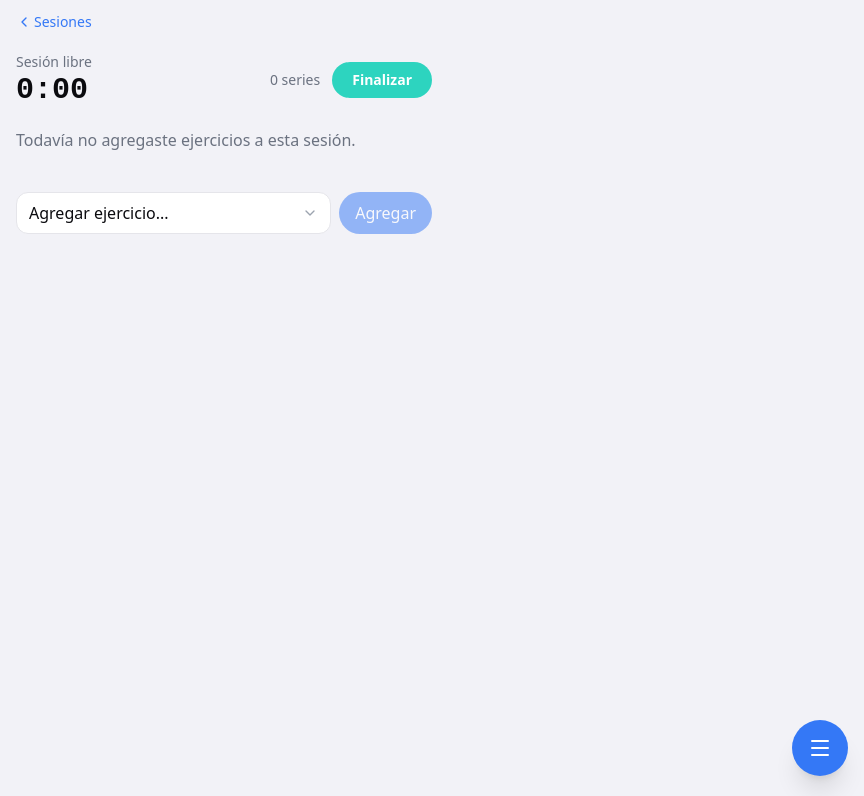
Test case: SessionDetailPage › convierte a kg el peso ingresado en libras al guardar
Expected: the text "Todavía no agregaste ejercicios a esta sesión." is shown, [16,129,356,151]
Click the button "Agregar ejercicio..." at (99, 213), box [16,192,331,234]
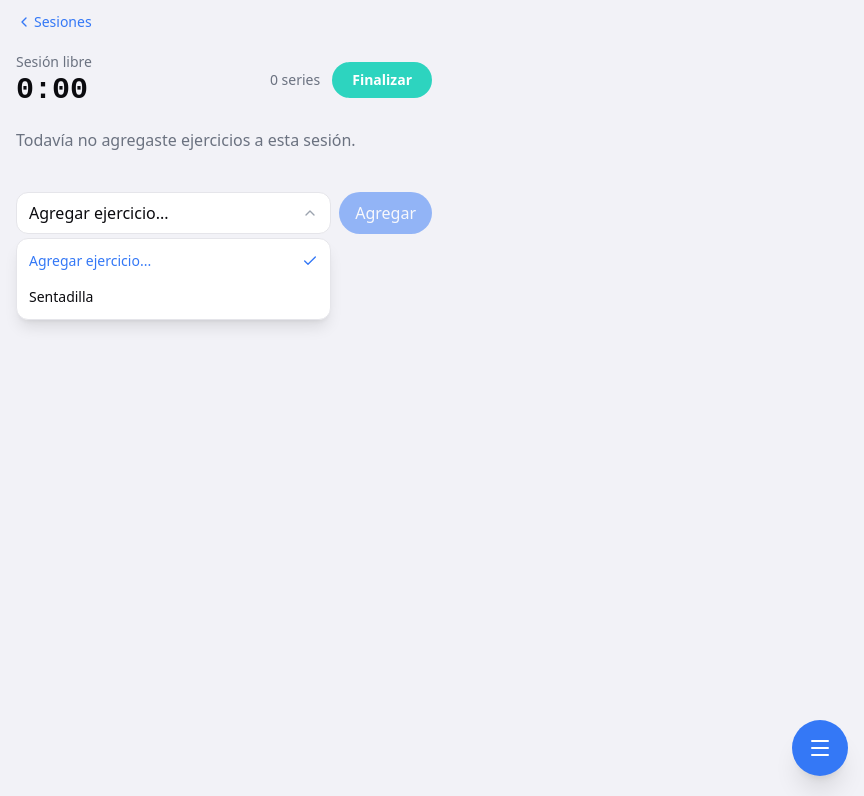
Click the button "Sentadilla" at (61, 296), box [17,279,330,315]
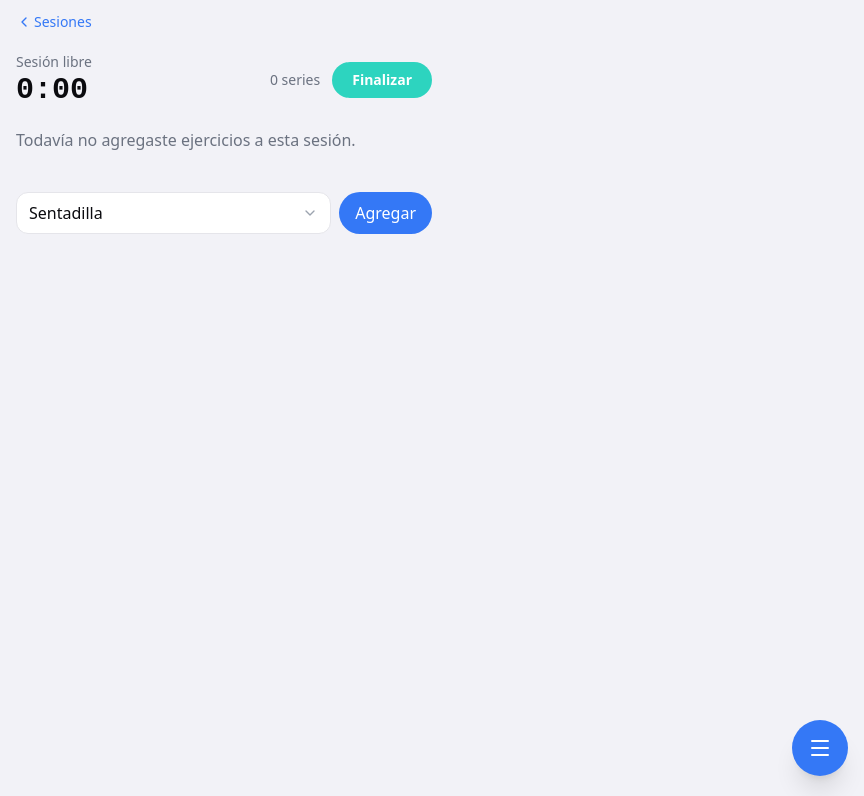
Click the button "Agregar" at (386, 213), box [339,192,432,234]
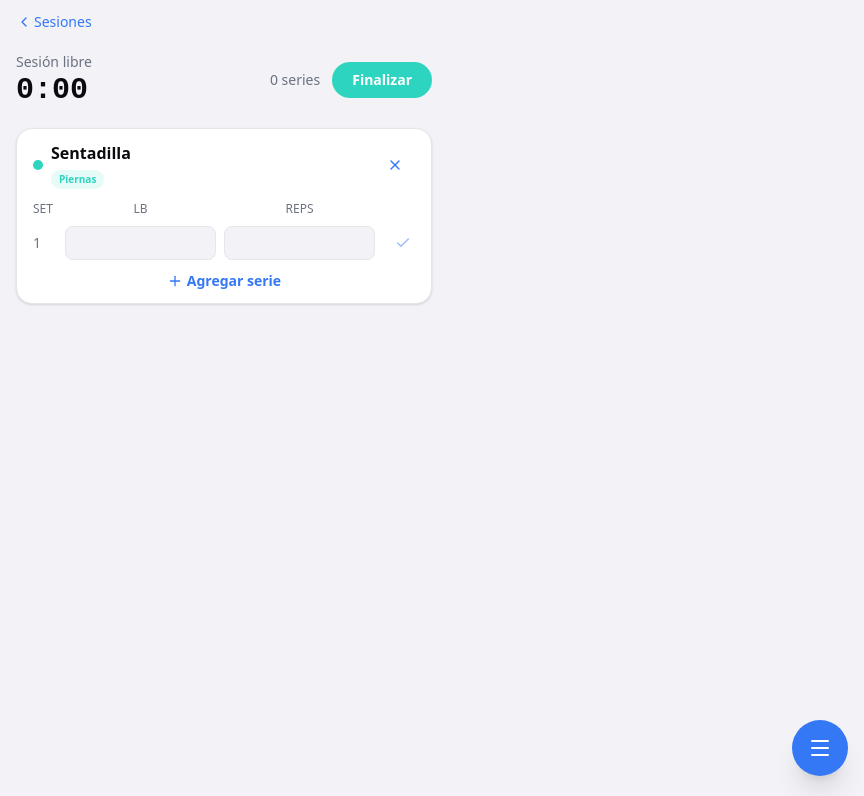
Expected: the text "Sentadilla" is shown, [51,142,131,164]
Type "220" into the number field named "Peso serie 1 de Sentadilla" at (140, 243), box [65,226,216,260]
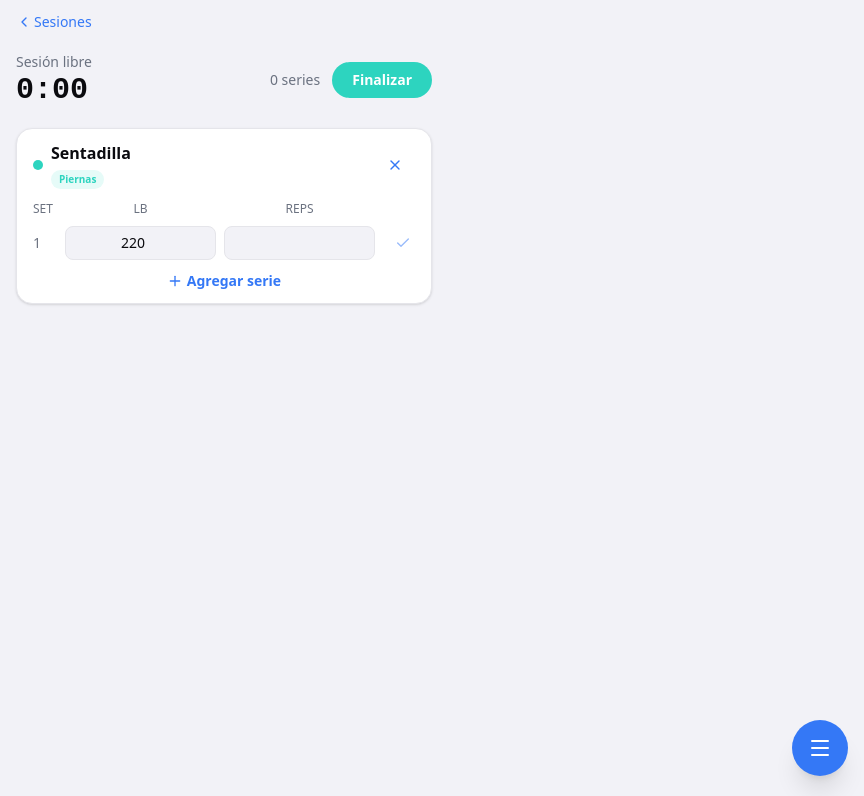
Type "10" into the number field named "Repeticiones serie 1 de Sentadilla" at (300, 243), box [224,226,375,260]
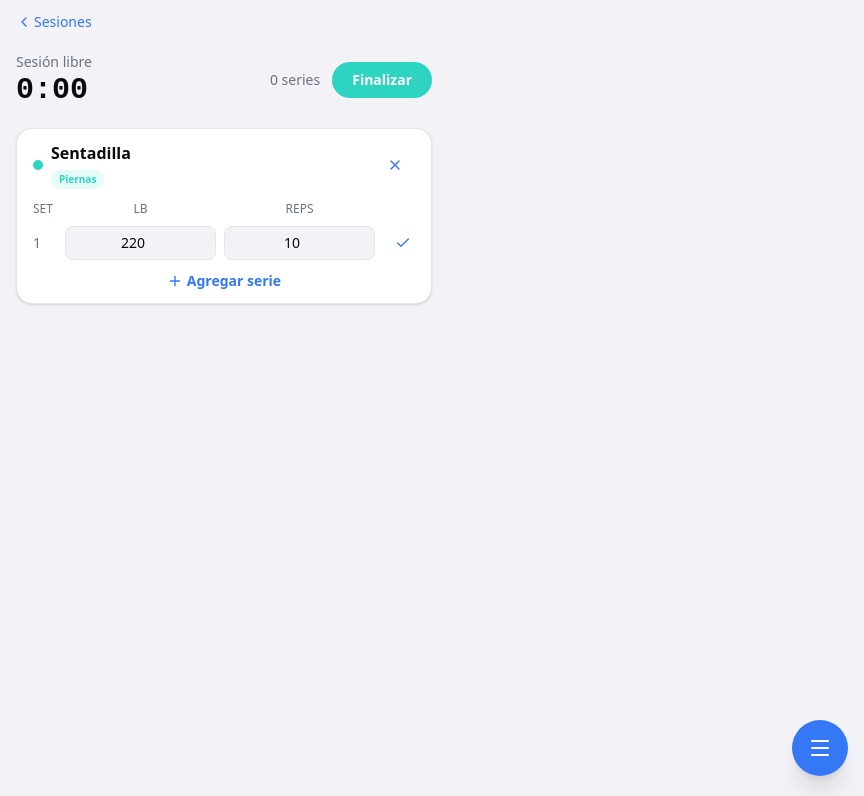
Click the button named "Guardar serie 1 de Sentadilla" at (403, 243), box [383,223,423,263]
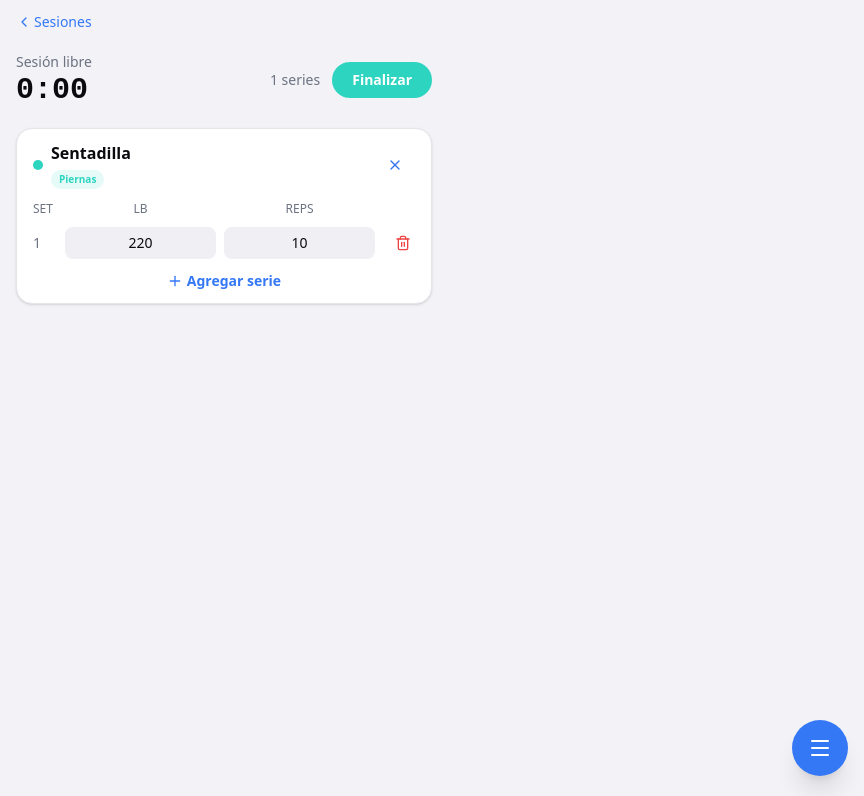
Expected: the text "220" is shown, [128,233,152,252]
